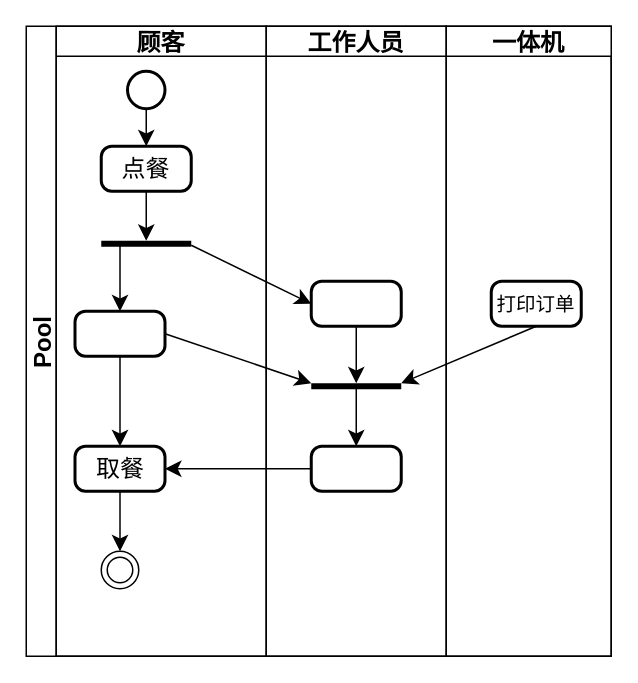
Some shapes in this 638 by 683 pixel diagram are drawn without their labels. Here are the shapes that lost their labels. From the top down, the centre of each, then its label:
(x=355, y=303): 处理订单
(x=119, y=333): 结算
(x=355, y=468): 供餐
